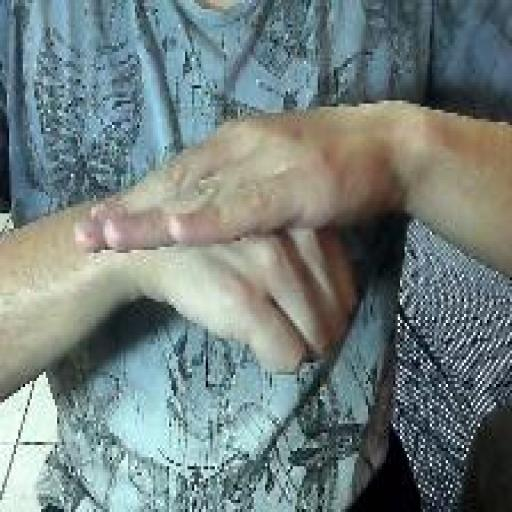Inu -dog-: (69, 108, 361, 380)
